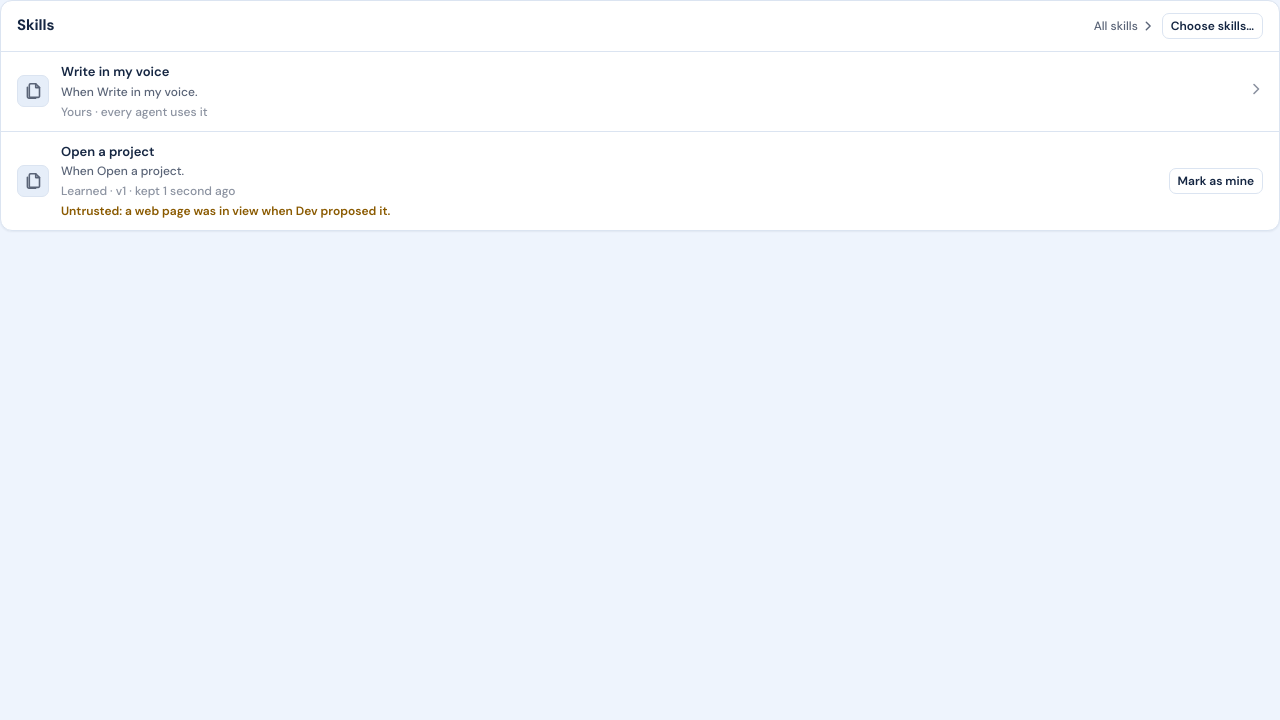
Test: the agent page’s Skills › opens the shared sheet from a row
Expected: the text "Open a project" is shown, [61, 142, 154, 160]
What coordinates should you click on to do the following:
click the element named "Open a project: details"
I would click on:
 (33, 181)
Its box is [1, 132, 1279, 230].
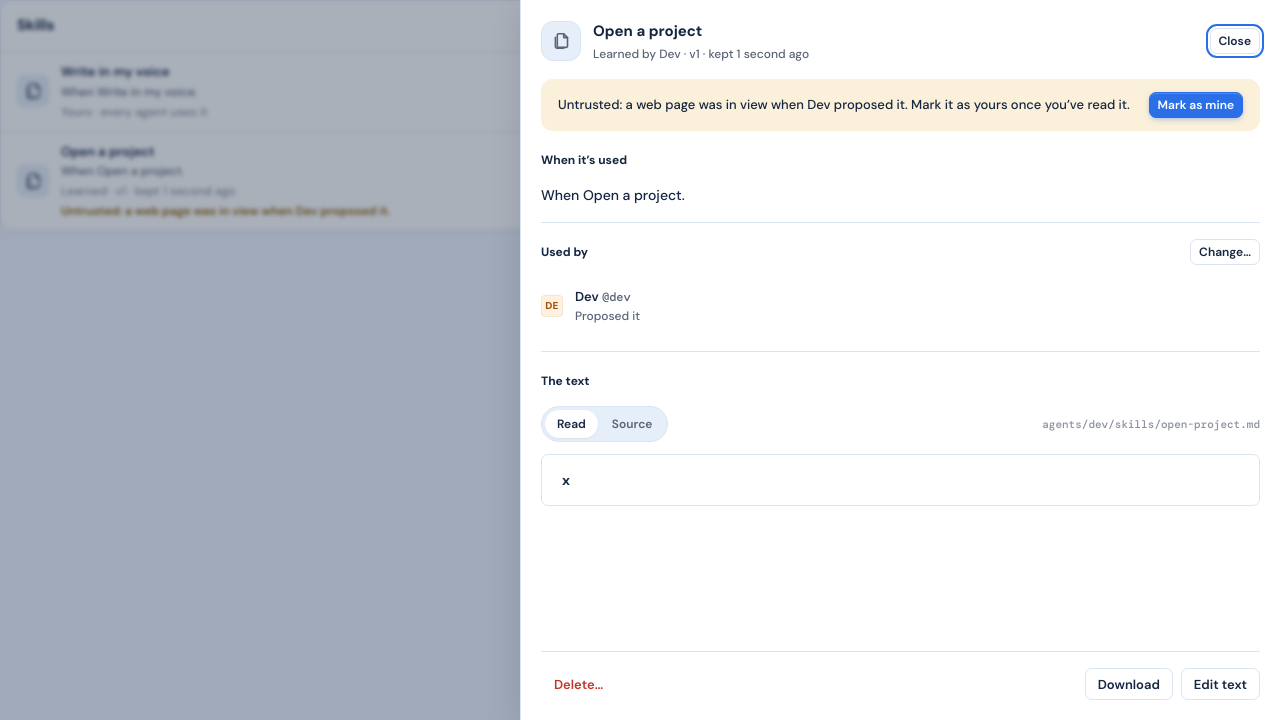
Expected: the dialog shows "When it’s used", [541, 152, 627, 168]
